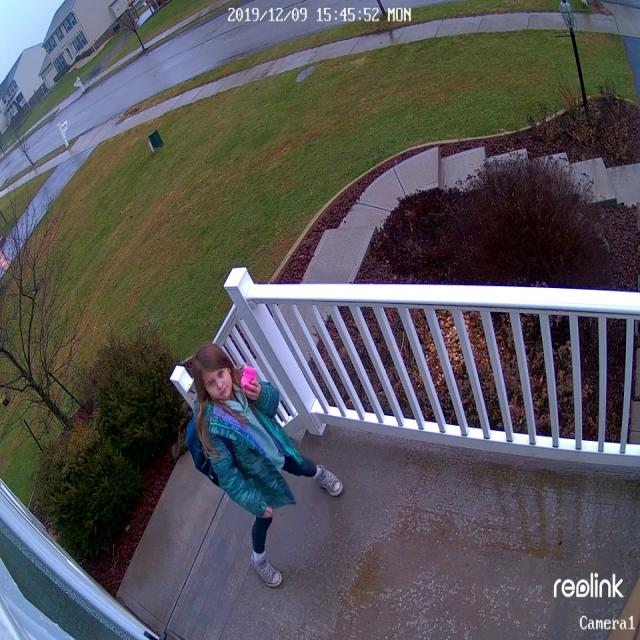child: (188, 342, 344, 586)
